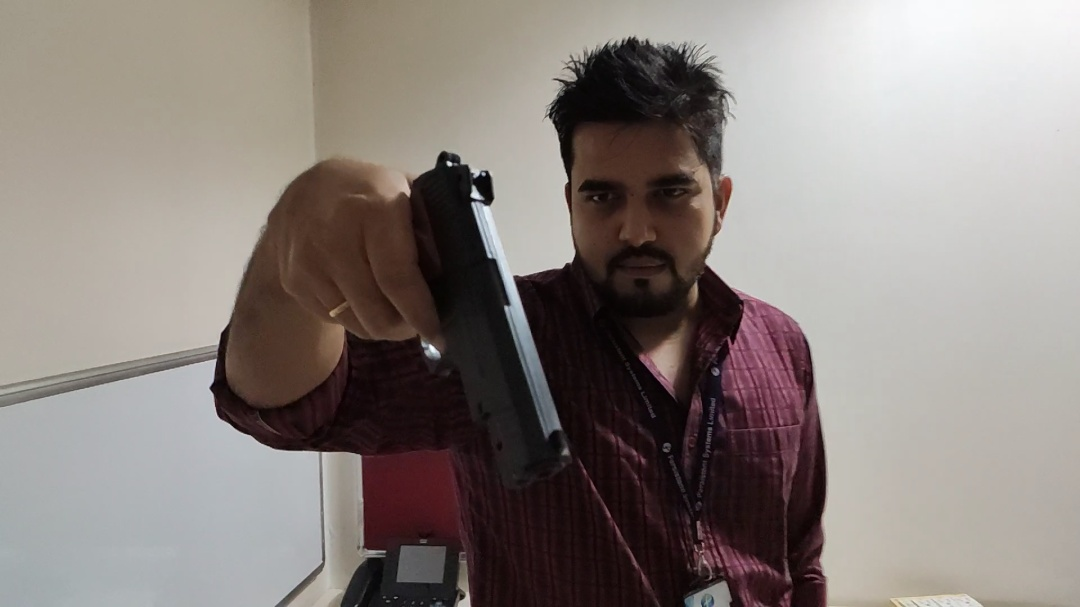gun: (374, 144, 573, 499)
